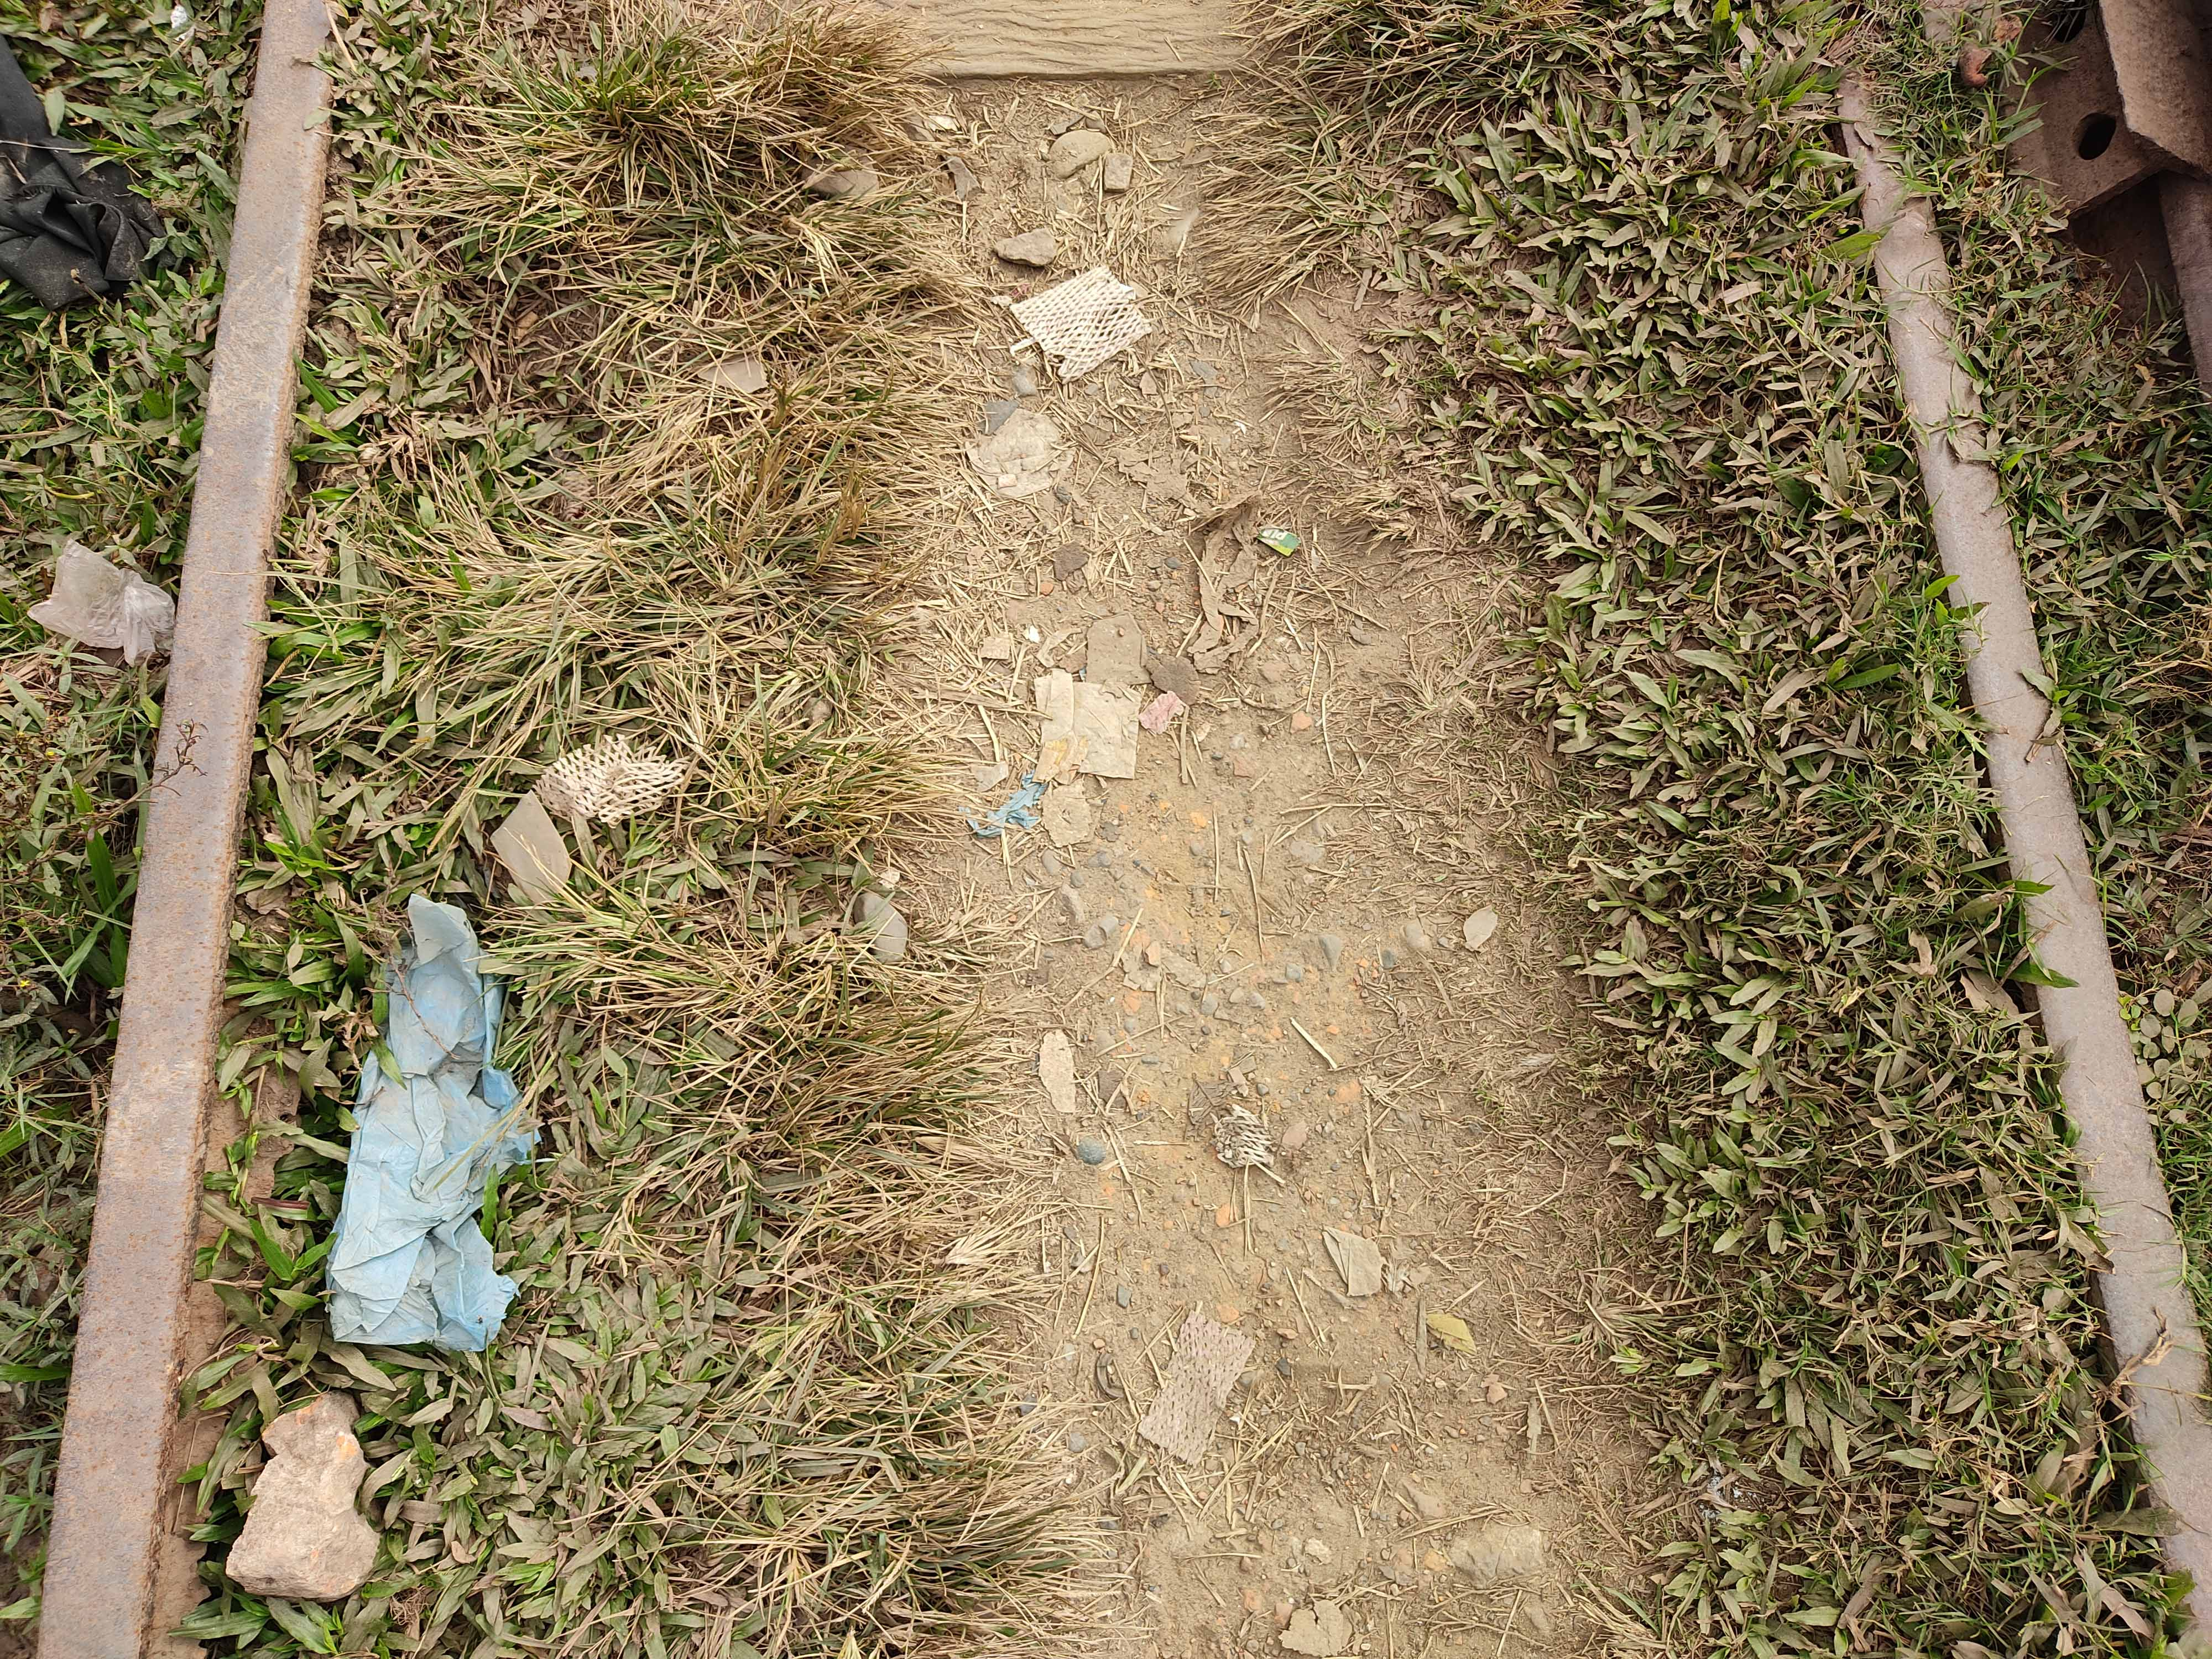error3: (212, 263, 300, 462)
